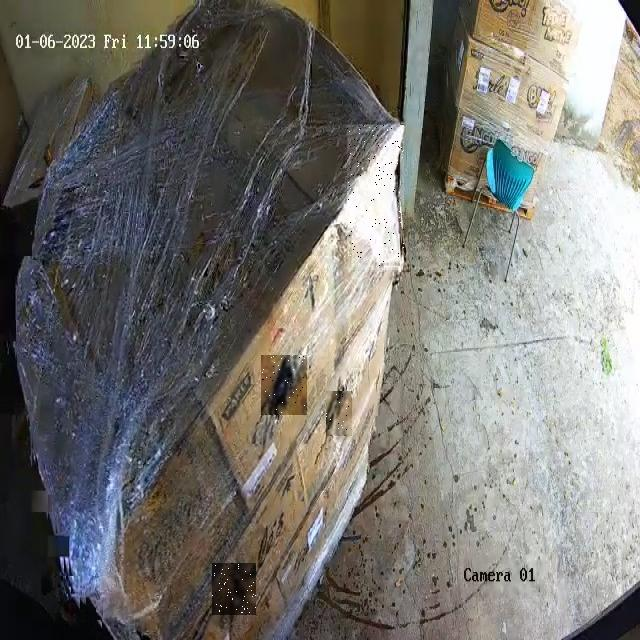leakage: (263, 356, 306, 413), (212, 564, 256, 613), (327, 392, 350, 434)
squeeze: (348, 125, 404, 269)
